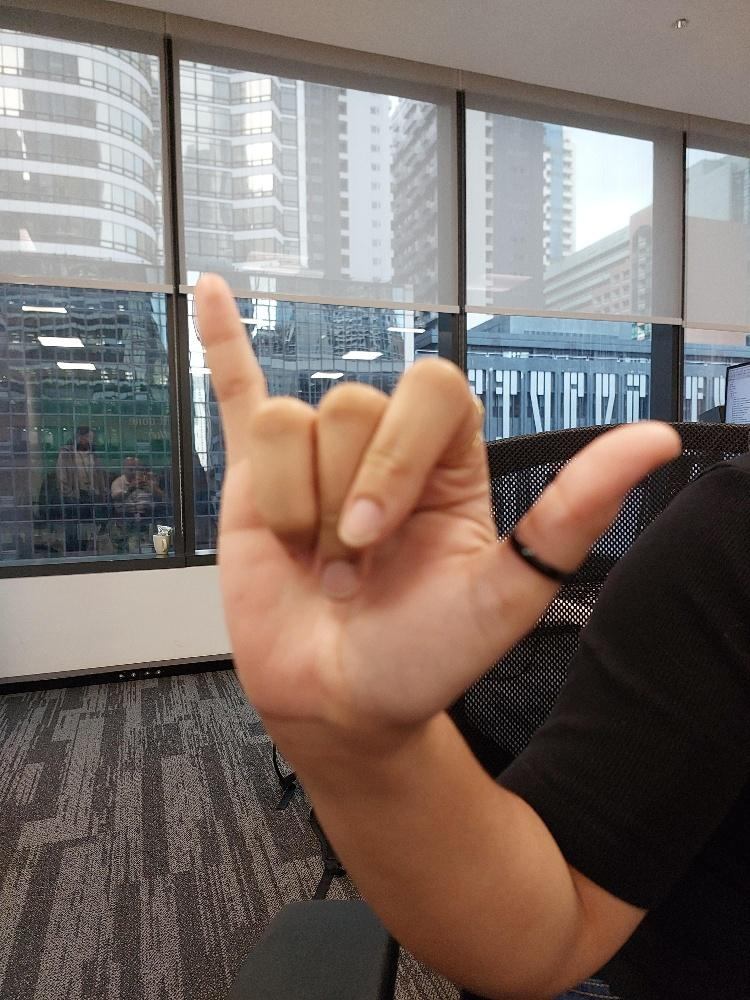y: (186, 266, 685, 734)
